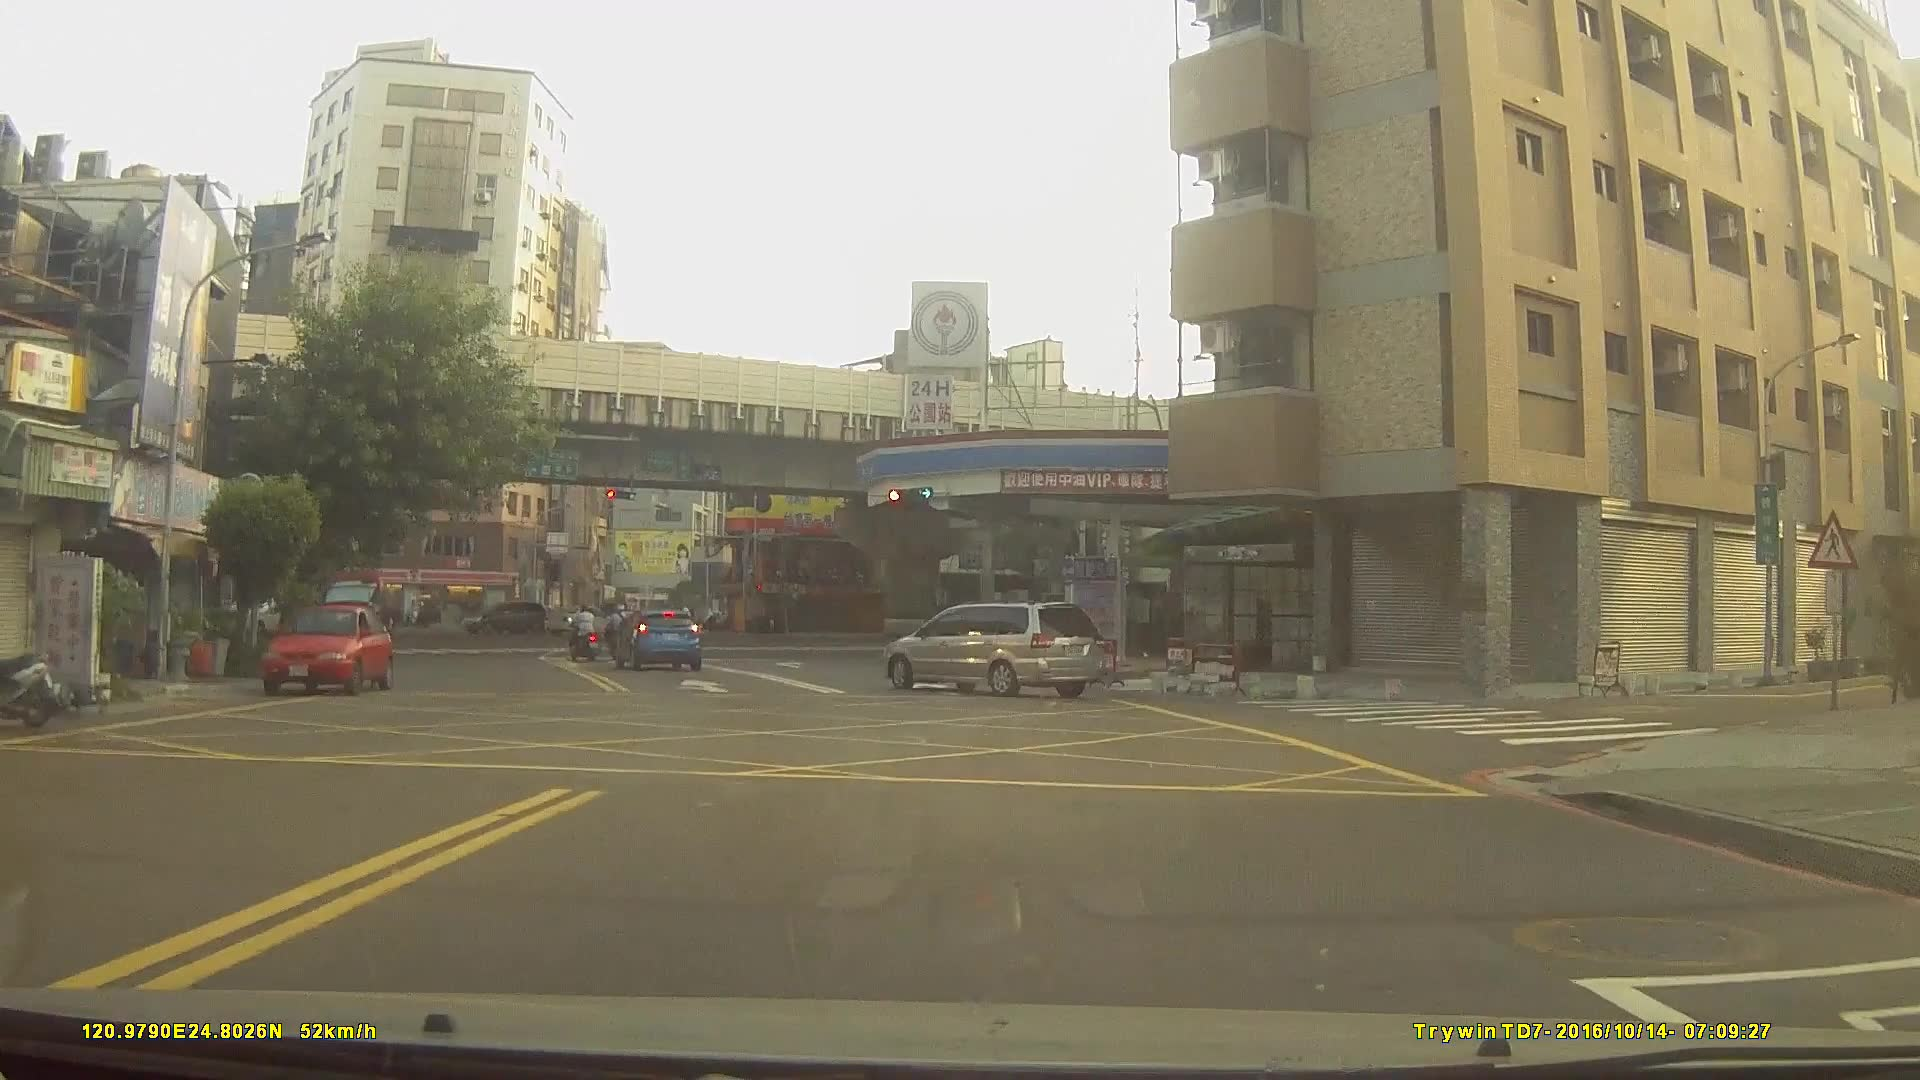rider: (565, 601, 598, 662)
vehicle: (882, 601, 1104, 697), (258, 601, 393, 696), (609, 607, 703, 671), (461, 600, 549, 635), (541, 604, 619, 636)
